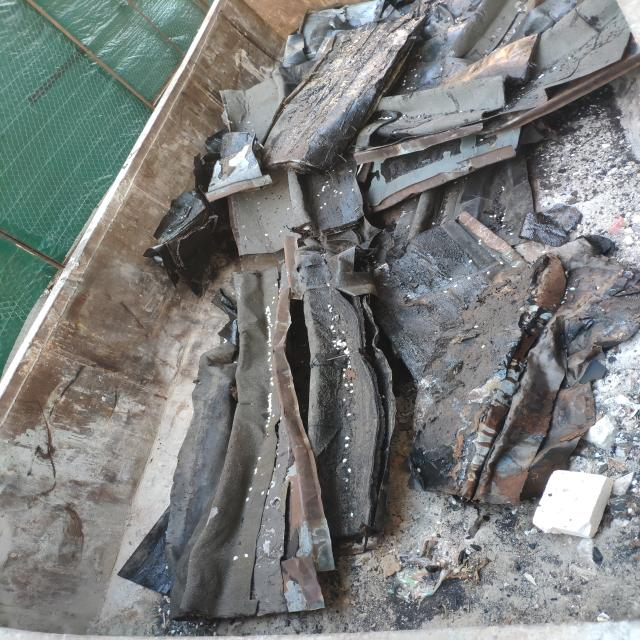entulho: (163, 341, 339, 627), (373, 211, 542, 491), (178, 112, 296, 413), (255, 5, 418, 175), (471, 321, 585, 509), (381, 0, 543, 91), (564, 348, 637, 492)
